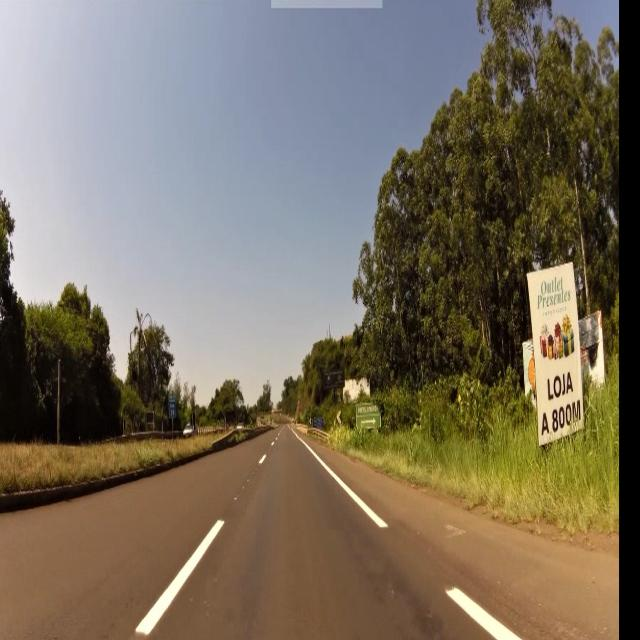RQ: (168, 392, 178, 420)
